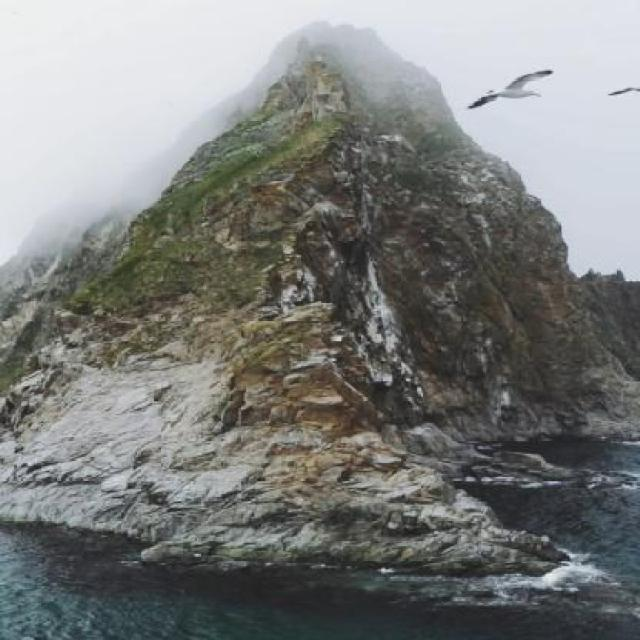bird: (449, 51, 565, 118), (592, 70, 639, 108)
